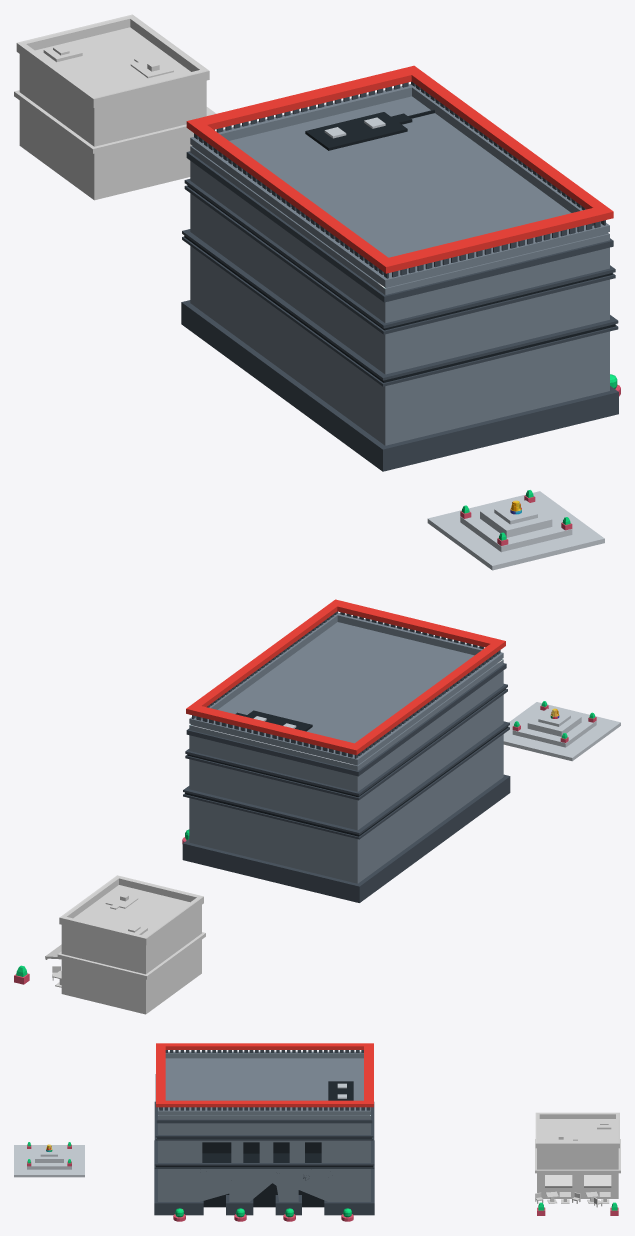
File: Buildings.fbx
The picture shows the model from 3 angles, top to bottom: view 1: azimuth 30°, elevation 25°; view 2: azimuth 150°, elevation 25°; view 3: azimuth 270°, elevation 25°; orthographic projection. The views are drawn at different scales.
Visible parts, largest first — view 1: Cube.018, Cube, Cylinder.003; view 2: Cube.018, Cube, Cylinder.003; view 3: Cube.018, Cube, Cylinder.003, Cube.001, Cylinder.001, Cube.005.
Boxes of the visible parts, x1=… form: Cube.018: x1=181, y1=65, x2=618, y2=471; Cube: x1=14, y1=14, x2=209, y2=200; Cylinder.003: x1=427, y1=490, x2=604, y2=570; Cube.018: x1=182, y1=599, x2=510, y2=902; Cube: x1=57, y1=875, x2=205, y2=1014; Cylinder.003: x1=503, y1=701, x2=620, y2=761; Cube.018: x1=154, y1=1043, x2=374, y2=1215; Cube: x1=535, y1=1112, x2=620, y2=1198; Cylinder.003: x1=14, y1=1142, x2=84, y2=1177; Cube.001: x1=545, y1=1175, x2=611, y2=1187; Cylinder.001: x1=173, y1=1208, x2=353, y2=1221; Cube.005: x1=546, y1=1191, x2=610, y2=1203.
Bounding box in the file's own units: 496 × 344 × 1712.
